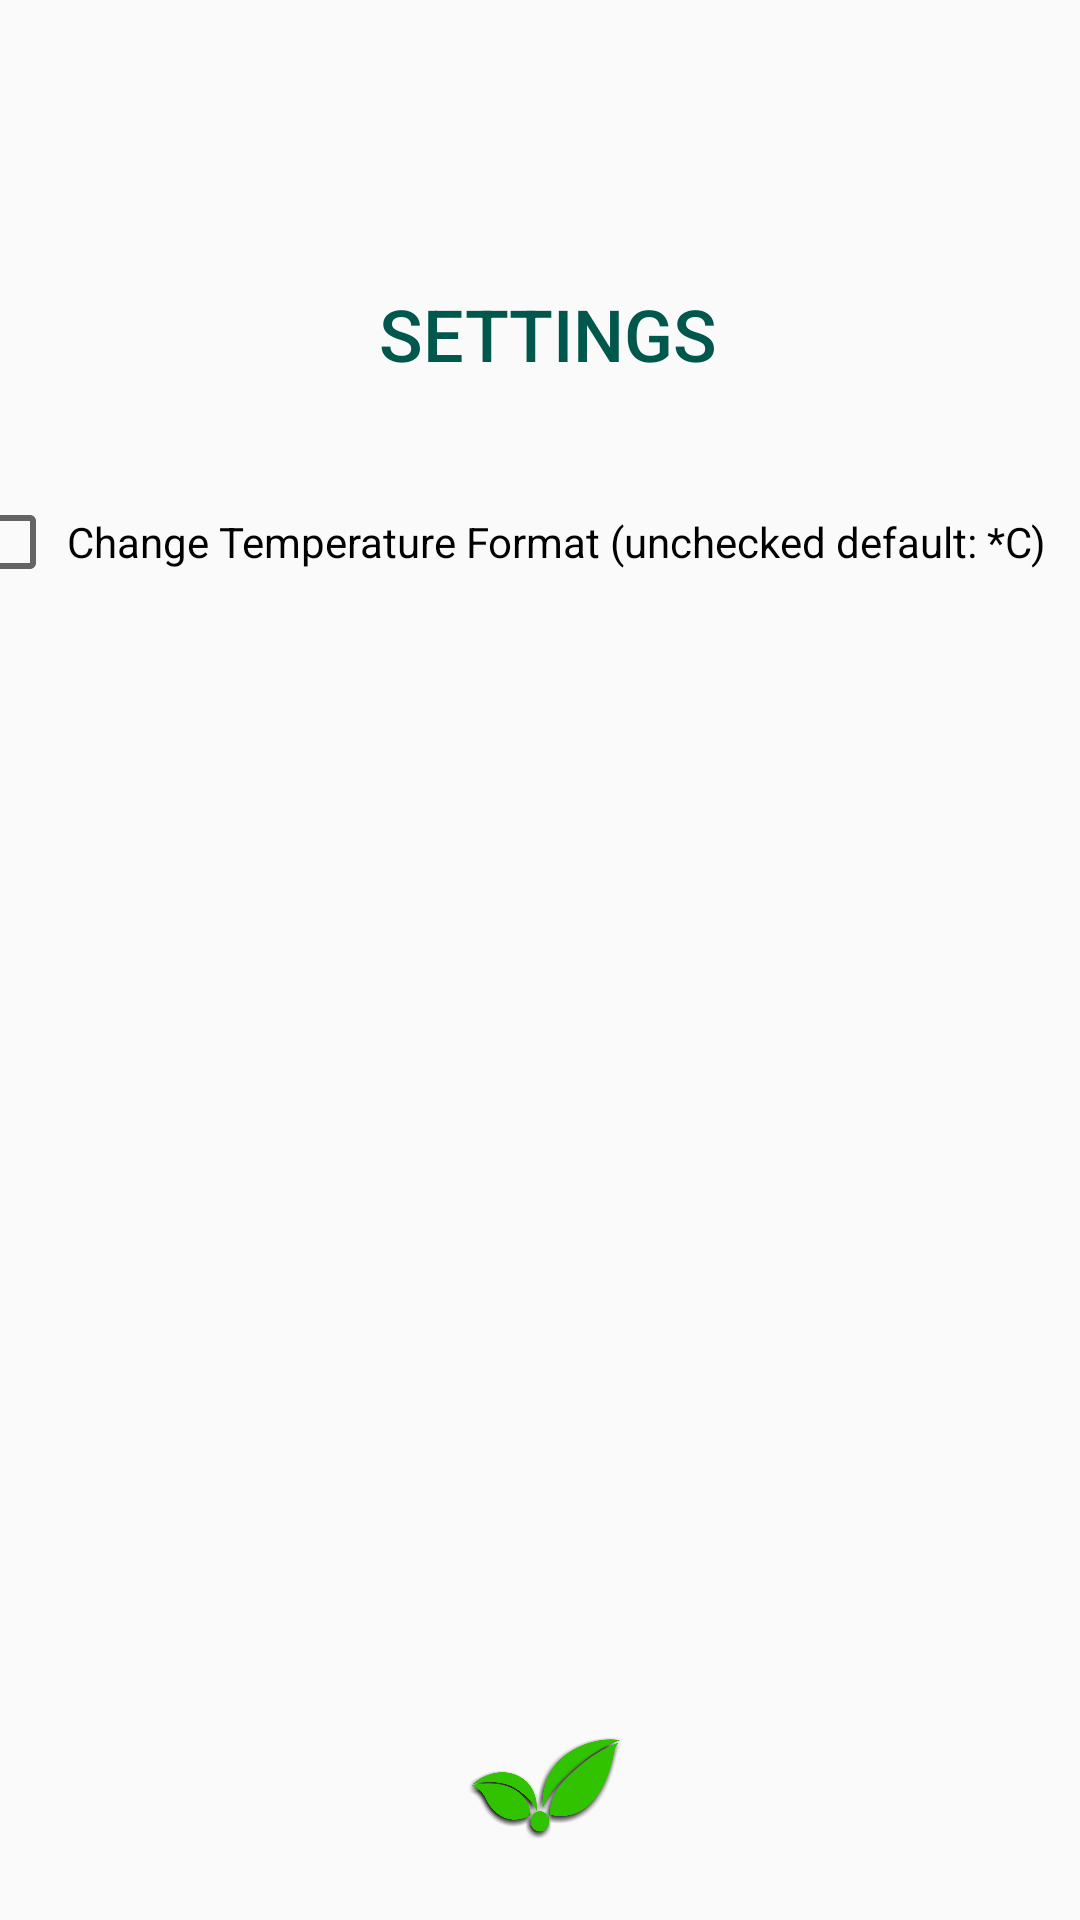

Screen size 1080×1920. Icon name, then its center in pixels as [x,y]:
igro justleaf: [545,1788]
